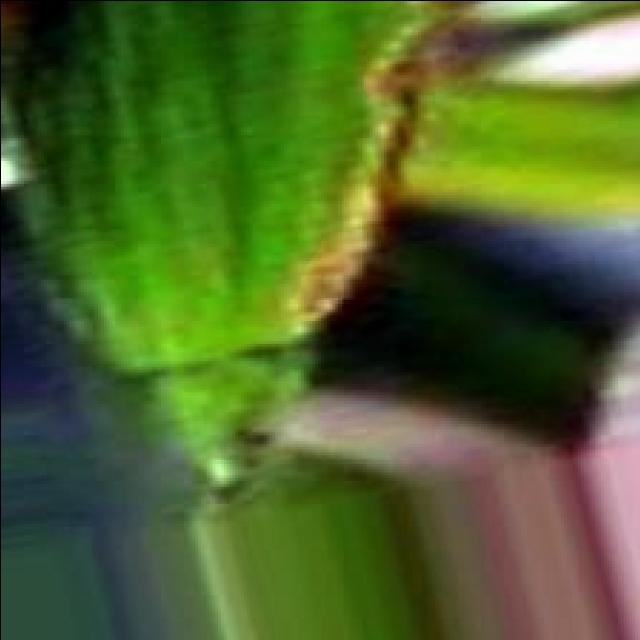Unhealthy: (282, 0, 571, 342)
